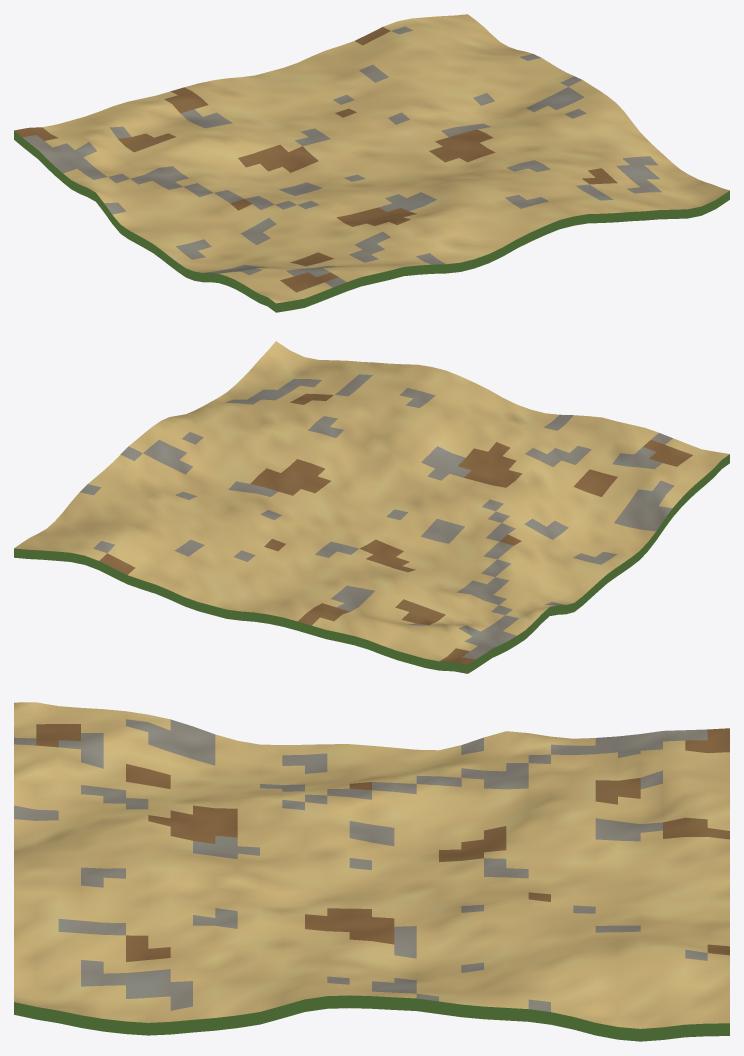
Rendered from chunk_7_7_lod1.glb.
3 views of the same model, one above another, from view 1: azimuth 30°, elevation 25°; view 2: azimuth 150°, elevation 25°; view 3: azimuth 270°, elevation 25° (orthographic). The views are drawn at different scales.
Visible parts, largest first — view 1: Surface_Sand, Surface_Gravel, Skirt, Surface_Dirt; view 2: Surface_Sand, Surface_Gravel, Surface_Dirt, Skirt; view 3: Surface_Sand, Surface_Gravel, Surface_Dirt, Skirt.
Part boxes in pixels (x1,y1,x2,y2): Surface_Sand: [42, 14, 729, 303]; Surface_Gravel: [22, 26, 662, 287]; Skirt: [14, 131, 729, 312]; Surface_Dirt: [14, 27, 617, 292]; Surface_Sand: [14, 341, 729, 661]; Surface_Gravel: [80, 374, 674, 659]; Surface_Dirt: [99, 393, 692, 664]; Skirt: [14, 454, 729, 673]; Surface_Sand: [14, 702, 729, 1028]; Surface_Gravel: [14, 719, 707, 1011]; Surface_Dirt: [36, 724, 729, 961]; Skirt: [14, 995, 729, 1041].
Size of the model in its own units: 256 by 31.54 by 256.
